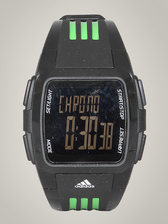watch: (13, 9, 155, 218)
